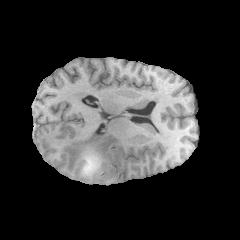glioma: (62, 131, 121, 181)
